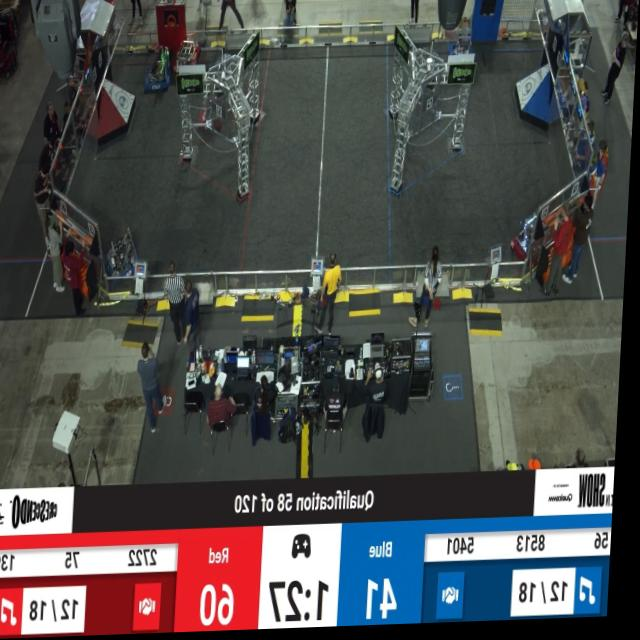Robot: (508, 205, 553, 273), (103, 224, 147, 291), (448, 16, 482, 76), (145, 48, 174, 97), (198, 78, 222, 137), (173, 32, 202, 78)
